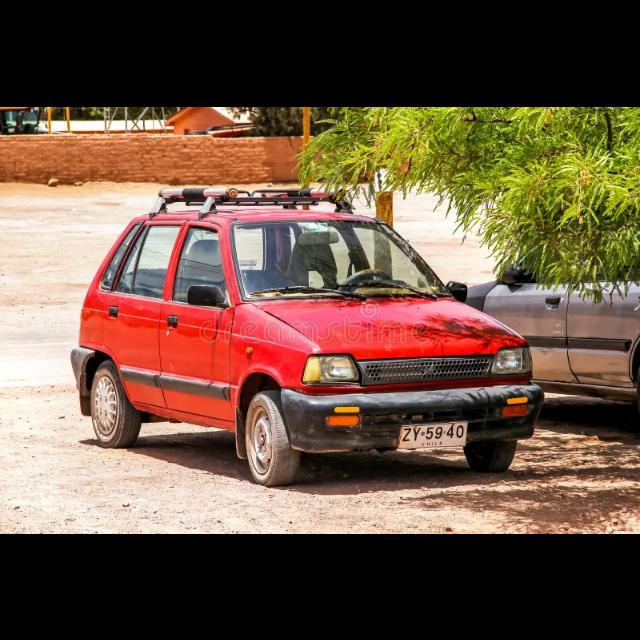number-plate: (400, 421, 469, 449)
vehicles: (70, 207, 546, 486)
